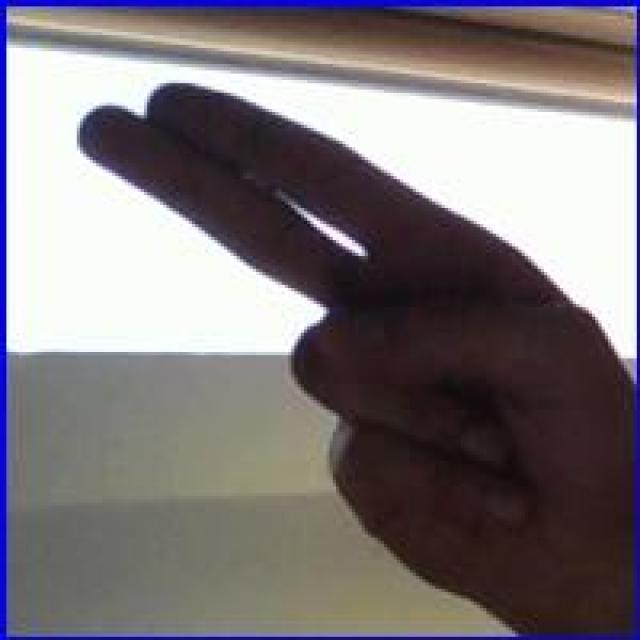H: (64, 79, 624, 626)
